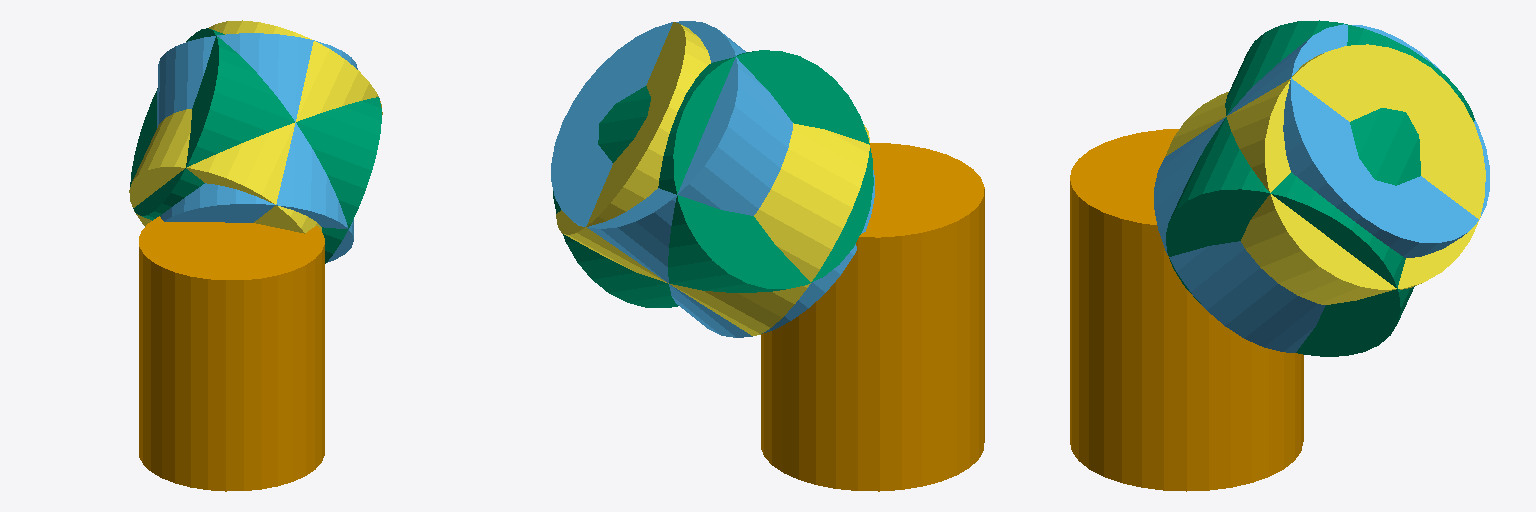
robot.urdf — pepe:
<?xml version="1.0"?><robot name="pepe">
	<link name="0">
		<visual>
			<geometry>
				<cylinder length="1.5623497481631918" radius="0.6261912174236801"/>
			</geometry>
		</visual>
		<collision>
			<geometry>
				<cylinder length="1.5623497481631918" radius="0.6261912174236801"/>
			</geometry>
		</collision>
		<inertial>
			<mass value="1.924607078642674"/>
			<inertia ixx="0.03" iyy="0.03" izz="0.03" ixy="0" ixz="0" iyx="0"/>
		</inertial>
	</link>
	<link name="11">
		<visual>
			<geometry>
				<cylinder length="1.2193663251809304" radius="0.6711037832164134"/>
			</geometry>
		</visual>
		<collision>
			<geometry>
				<cylinder length="1.2193663251809304" radius="0.6711037832164134"/>
			</geometry>
		</collision>
		<inertial>
			<mass value="1.7252953186923625"/>
			<inertia ixx="0.03" iyy="0.03" izz="0.03" ixy="0" ixz="0" iyx="0"/>
		</inertial>
	</link>
	<link name="12">
		<visual>
			<geometry>
				<cylinder length="1.2193663251809304" radius="0.6711037832164134"/>
			</geometry>
		</visual>
		<collision>
			<geometry>
				<cylinder length="1.2193663251809304" radius="0.6711037832164134"/>
			</geometry>
		</collision>
		<inertial>
			<mass value="1.7252953186923625"/>
			<inertia ixx="0.03" iyy="0.03" izz="0.03" ixy="0" ixz="0" iyx="0"/>
		</inertial>
	</link>
	<link name="13">
		<visual>
			<geometry>
				<cylinder length="1.2193663251809304" radius="0.6711037832164134"/>
			</geometry>
		</visual>
		<collision>
			<geometry>
				<cylinder length="1.2193663251809304" radius="0.6711037832164134"/>
			</geometry>
		</collision>
		<inertial>
			<mass value="1.7252953186923625"/>
			<inertia ixx="0.03" iyy="0.03" izz="0.03" ixy="0" ixz="0" iyx="0"/>
		</inertial>
	</link>
	<joint name="11_to_0" type="revolute">
		<parent link="0"/>
		<child link="11"/>
		<axis xyz="0 0 1"/>
		<limit effort="1" upper="-3.1415" lower="3.1415" velocity="1"/>
		<origin rpy="9.027699134877802 5.583971434492269 4.7340967613393" xyz="0.606865204064336 0.7262203353889456 0.9999"/>
	</joint>
	<joint name="12_to_0" type="revolute">
		<parent link="0"/>
		<child link="12"/>
		<axis xyz="0 0 1"/>
		<limit effort="1" upper="-3.1415" lower="3.1415" velocity="1"/>
		<origin rpy="13.541548702316703 5.583971434492269 4.7340967613393" xyz="0.606865204064336 0.7262203353889456 0.9999"/>
	</joint>
	<joint name="13_to_0" type="revolute">
		<parent link="0"/>
		<child link="13"/>
		<axis xyz="0 0 1"/>
		<limit effort="1" upper="-3.1415" lower="3.1415" velocity="1"/>
		<origin rpy="18.055398269755603 5.583971434492269 4.7340967613393" xyz="0.606865204064336 0.7262203353889456 0.9999"/>
	</joint>
</robot>

--- Facts derived from the render (not from the file) ---
The picture shows the robot from 3 angles, left to right: view 1: azimuth 30°, elevation 25°; view 2: azimuth 150°, elevation 25°; view 3: azimuth 270°, elevation 25°; orthographic projection.
Robot: pepe — 4 links, 3 joints (3 revolute); root link 0; default pose: all joints at 0.
Links seen in each view (by area): view 1: 0, 12, 11, 13; view 2: 0, 11, 12, 13; view 3: 0, 13, 11, 12.
Link boxes in pixels (x1=…): 0: x1=139, y1=216, x2=324, y2=491; 12: x1=130, y1=28, x2=381, y2=263; 11: x1=157, y1=33, x2=357, y2=262; 13: x1=129, y1=20, x2=382, y2=233; 0: x1=761, y1=143, x2=984, y2=491; 11: x1=551, y1=21, x2=874, y2=337; 12: x1=553, y1=50, x2=873, y2=307; 13: x1=556, y1=22, x2=869, y2=335; 0: x1=1070, y1=129, x2=1303, y2=491; 13: x1=1165, y1=44, x2=1485, y2=304; 11: x1=1154, y1=24, x2=1489, y2=352; 12: x1=1166, y1=20, x2=1474, y2=356.
Size in the robot's own frame: 2.14 by 2.25 by 2.69 metres.
Geometry: primitives only (box / cylinder / sphere), no mesh files.
